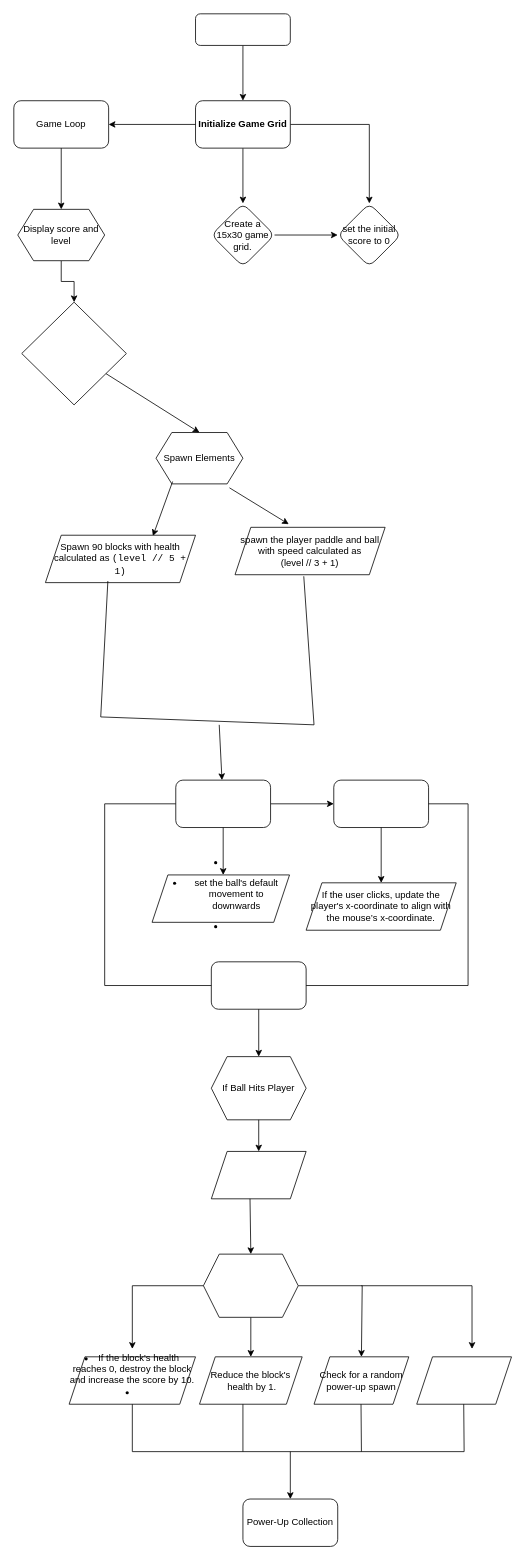
This 525x1560 diagram has some shape labels left out. Here are the shapes that lost their labels. From the top down, the centre of each, then its label:
At [242,29]: "start".
At [73,353]: "continuously show the current score on screen".
At [223,803]: "Ball Movement".
At [381,803]: "Player Input".
At [258,985]: "Collision Detection".
At [258,1175]: "Reverse the ball's y-speed to make it bounce back up.".
At [250,1285]: "If Ball Hits Block :".
At [464,1380]: "If a power-up spawns, it moves downwards at a speed of 1".
